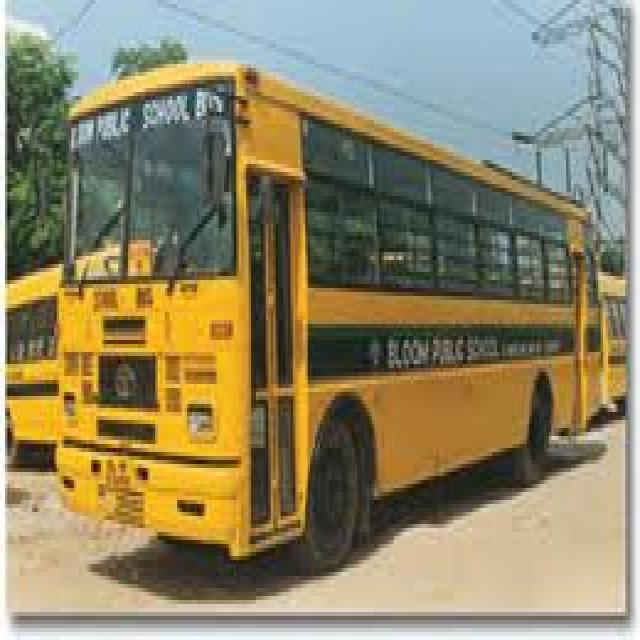bus_front: (41, 54, 604, 562)
